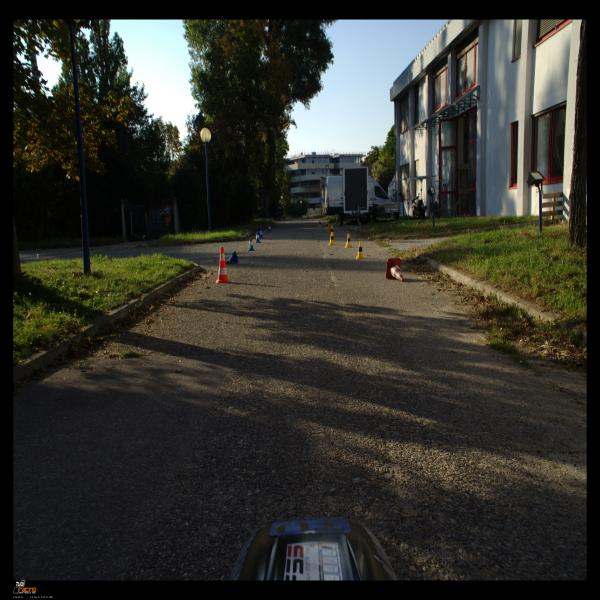blue_cone: (226, 251, 238, 264), (248, 237, 255, 251), (254, 231, 260, 243), (259, 228, 264, 238), (268, 224, 272, 232), (258, 229, 263, 235)
large_orange_cone: (215, 246, 230, 283), (386, 258, 404, 282)
yellow_cone: (356, 241, 365, 259), (345, 234, 353, 248), (329, 232, 335, 245), (328, 225, 334, 233), (330, 226, 334, 236), (325, 221, 328, 231), (318, 220, 322, 227)
